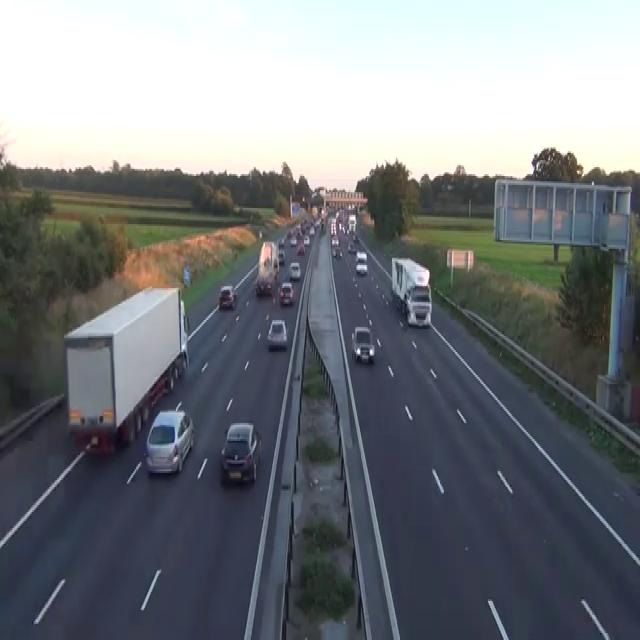Car: (144, 402, 194, 474), (220, 422, 261, 484), (405, 285, 431, 327), (351, 325, 375, 363), (267, 318, 287, 348), (149, 375, 165, 405), (218, 284, 236, 310), (278, 281, 294, 304), (256, 276, 272, 295), (174, 350, 185, 377), (355, 250, 367, 274), (288, 261, 301, 279), (331, 235, 340, 256), (332, 245, 342, 258), (355, 251, 367, 261), (278, 249, 285, 265), (347, 242, 357, 252), (296, 244, 305, 254), (331, 235, 339, 245), (289, 237, 297, 246), (303, 235, 310, 245), (278, 237, 285, 246), (233, 204, 240, 213), (352, 233, 358, 243), (286, 230, 292, 238), (309, 226, 315, 234), (258, 230, 262, 238)
Truck: (63, 285, 189, 455), (391, 256, 432, 327), (256, 240, 279, 295)
